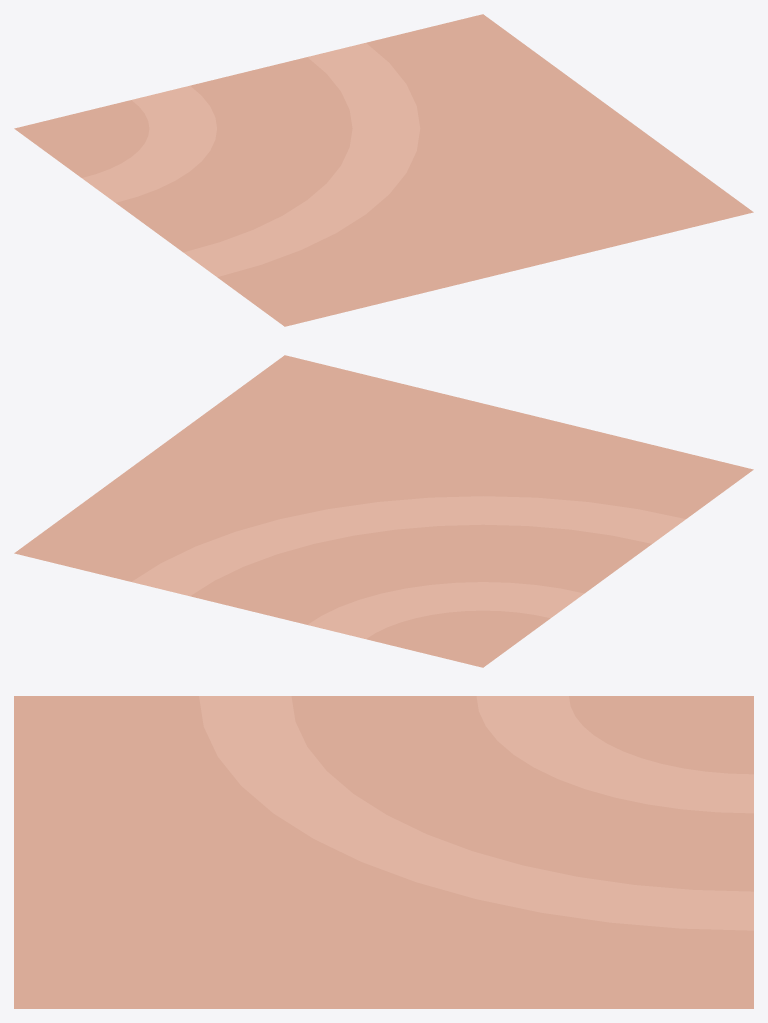
Rendered from terrain_roadCorner.glb.
3 views of the same model, one above another, from view 1: azimuth 30°, elevation 25°; view 2: azimuth 150°, elevation 25°; view 3: azimuth 270°, elevation 25° (orthographic). The views are drawn at different scales.
Parts seen in each view (by area): view 1: terrain_roadCorner; view 2: terrain_roadCorner; view 3: terrain_roadCorner.
Boxes of the visible parts, x1,y1,x2,y2 form: terrain_roadCorner: [14, 14, 753, 326]; terrain_roadCorner: [14, 355, 753, 667]; terrain_roadCorner: [14, 696, 753, 1008].
Size of the model in its own units: 1 by 0 by 1.
1 material, 1 textured.
